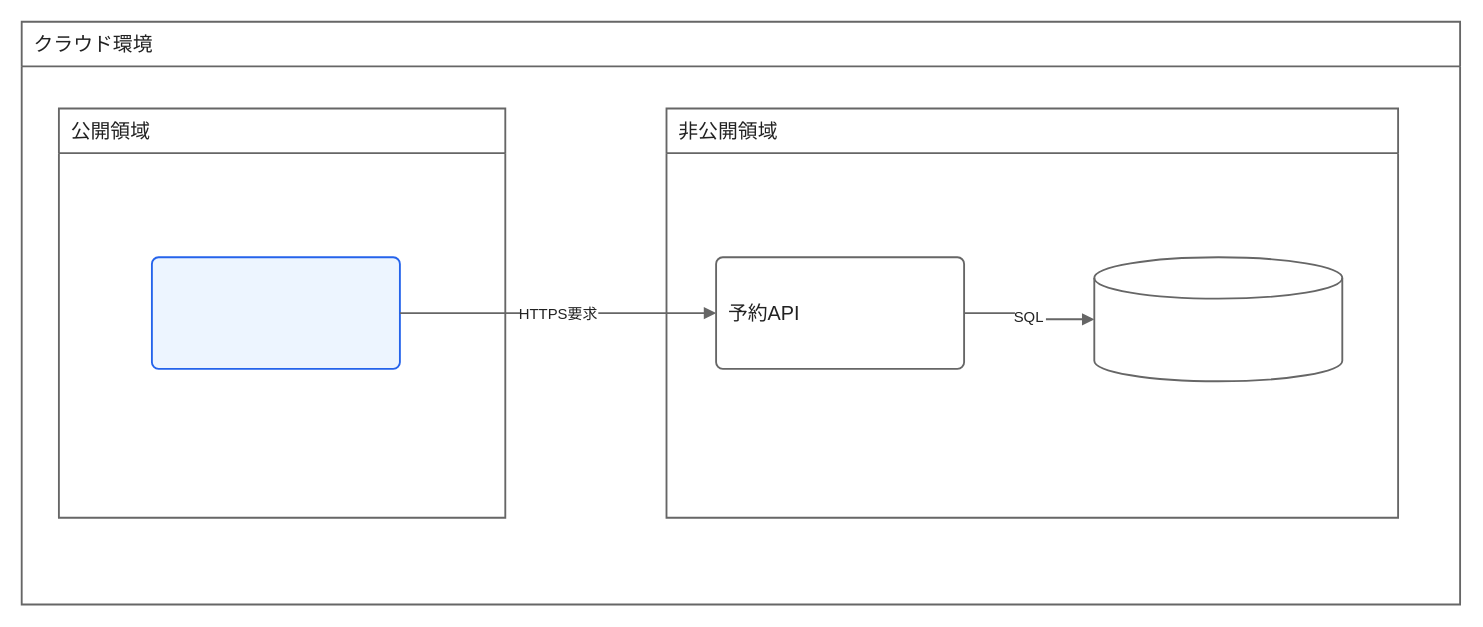
Image size: 1483x627. Some labels were removed from this diagram. The shapes that lost their labels are listed below. From the top down, each one's centre as x and y in pixels, then its label:
pixel 275 312: 予約画面
pixel 1218 319: 予約データ
